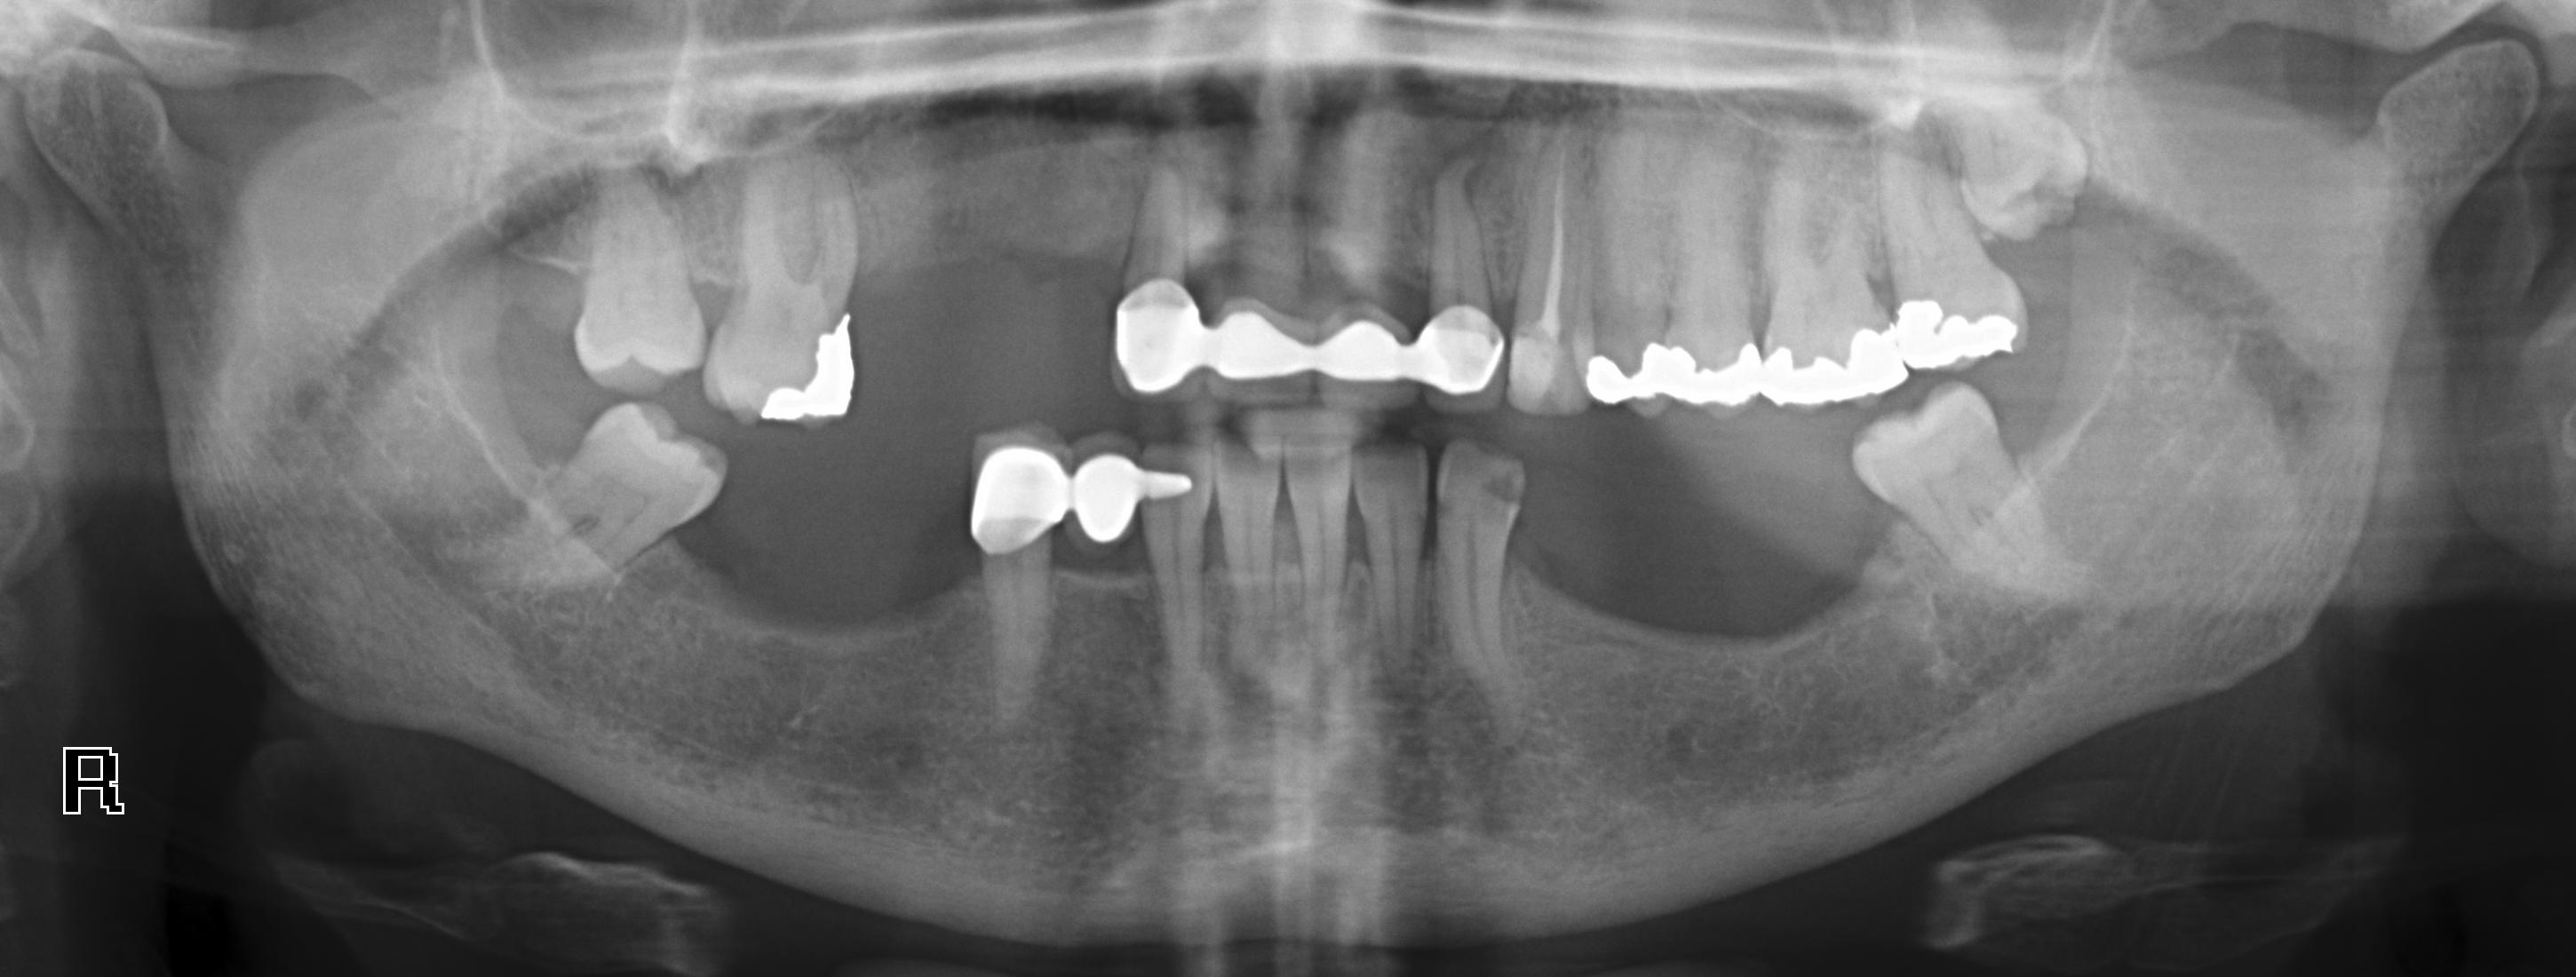Çürük: (1104, 268, 1222, 411), (964, 430, 1073, 568), (1590, 330, 1769, 411), (1766, 320, 1911, 411), (754, 320, 869, 432), (1206, 289, 1313, 406), (1902, 289, 2024, 374), (1416, 292, 1505, 406), (1322, 289, 1406, 406), (1079, 438, 1148, 566)
Çürük Bölgesi: (1482, 468, 1533, 511), (1160, 465, 1206, 484)
